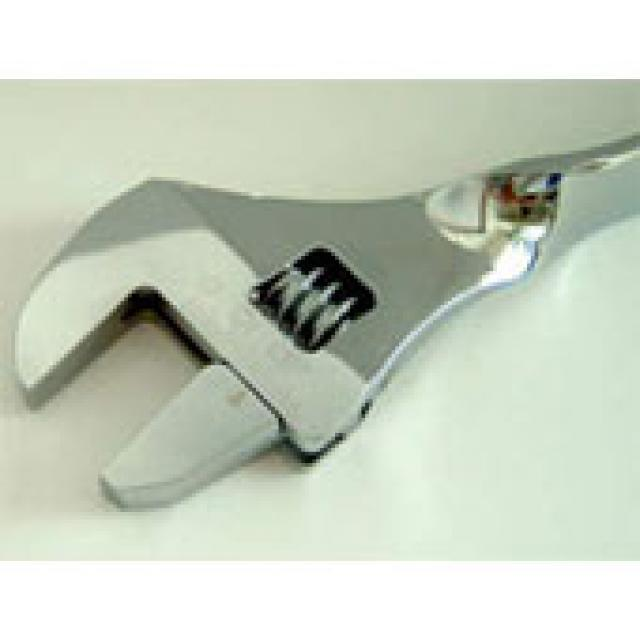wrench: (7, 130, 640, 520)
